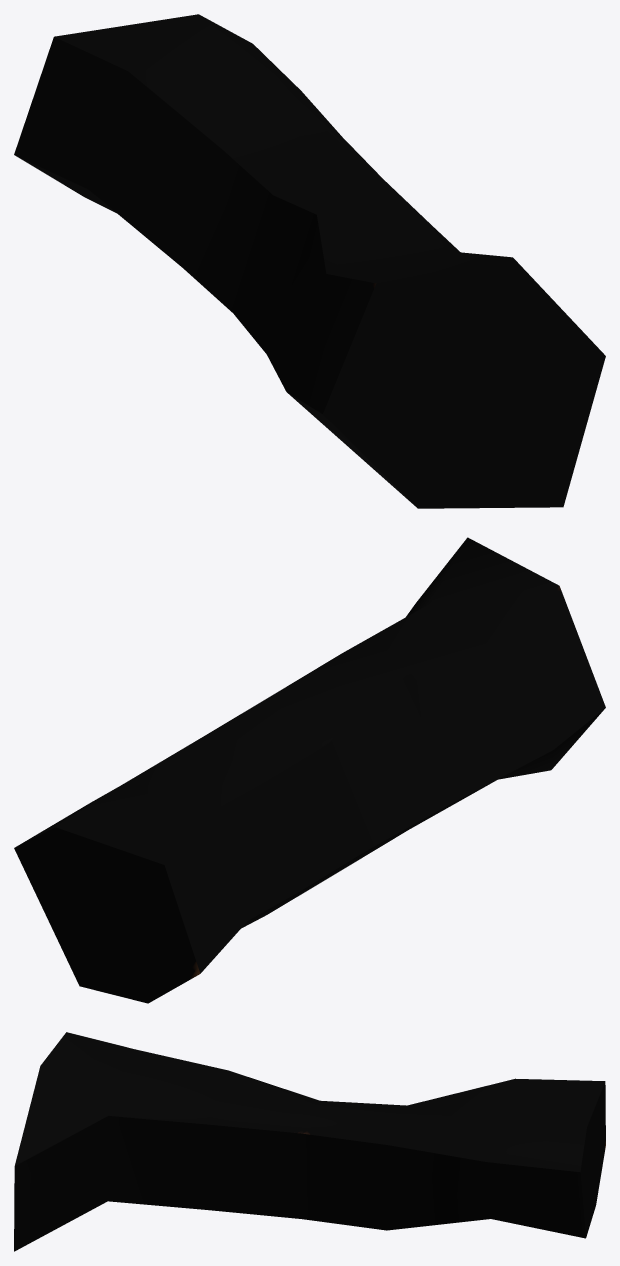
The model's file is assets_same_uvset_tronco_chico.fbx.
3 renders of one model, top to bottom at view 1: azimuth 30°, elevation 25°; view 2: azimuth 150°, elevation 25°; view 3: azimuth 270°, elevation 25°, orthographic. The views are drawn at different scales.
Visible parts, largest first — view 1: assets_same_uvset:tronco_chico; view 2: assets_same_uvset:tronco_chico; view 3: assets_same_uvset:tronco_chico.
Boxes of the visible parts, box(x1,y1,x2,y2) form: assets_same_uvset:tronco_chico: box(14, 14, 605, 508); assets_same_uvset:tronco_chico: box(14, 537, 605, 1003); assets_same_uvset:tronco_chico: box(14, 1032, 605, 1251).
Size of the model in its own units: 1.75 by 1.42 by 4.36.
1 material, 1 textured.
